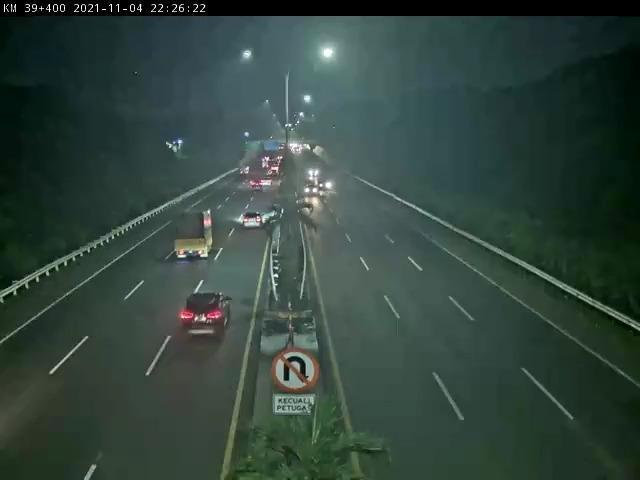car: (183, 293, 231, 337), (244, 213, 263, 227), (304, 182, 320, 197), (319, 181, 333, 194), (252, 181, 264, 191), (262, 179, 274, 188)
truck: (175, 211, 213, 260)
